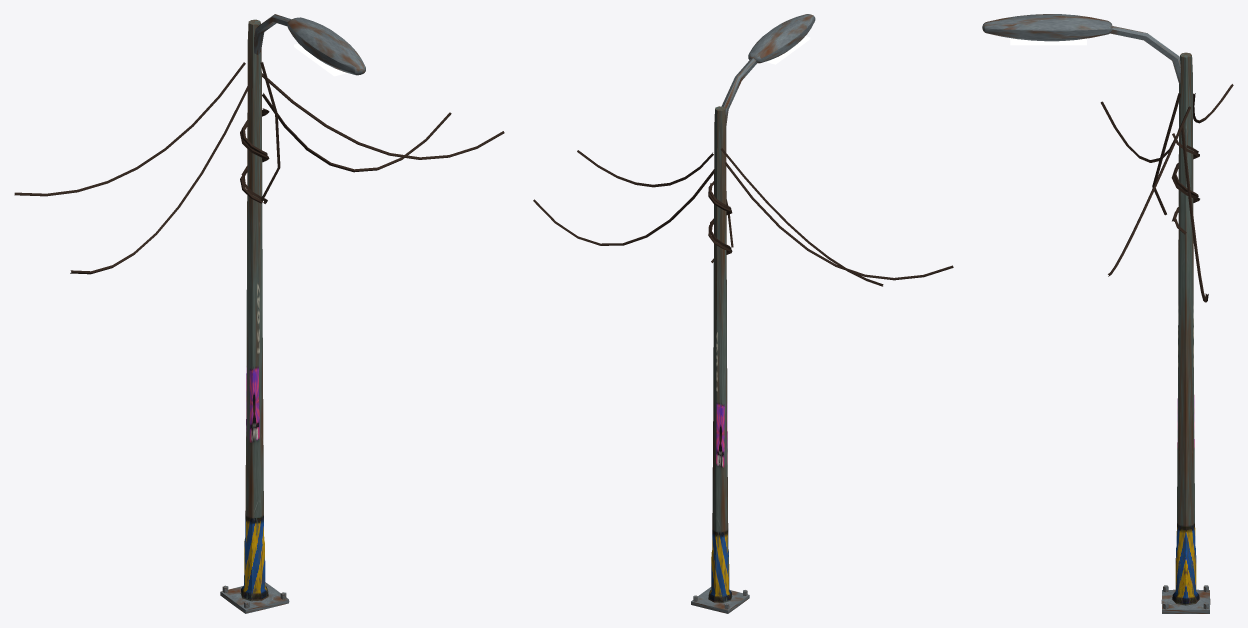
Rendered from env_lamp.glb.
3 views of the same model, side by side, from view 1: azimuth 30°, elevation 25°; view 2: azimuth 150°, elevation 25°; view 3: azimuth 270°, elevation 25° (orthographic). The views are drawn at different scales.
Visible parts, largest first — view 1: env_lamp_body; view 2: env_lamp_body; view 3: env_lamp_body.
Part boxes in pixels (x1,y1,x2,y2): env_lamp_body: [14, 14, 504, 613]; env_lamp_body: [533, 14, 953, 613]; env_lamp_body: [982, 14, 1233, 613].
Bounding box in the file's own units: 2.38 × 3.21 × 1.25.
Materials: 2 (2 with a texture image).
